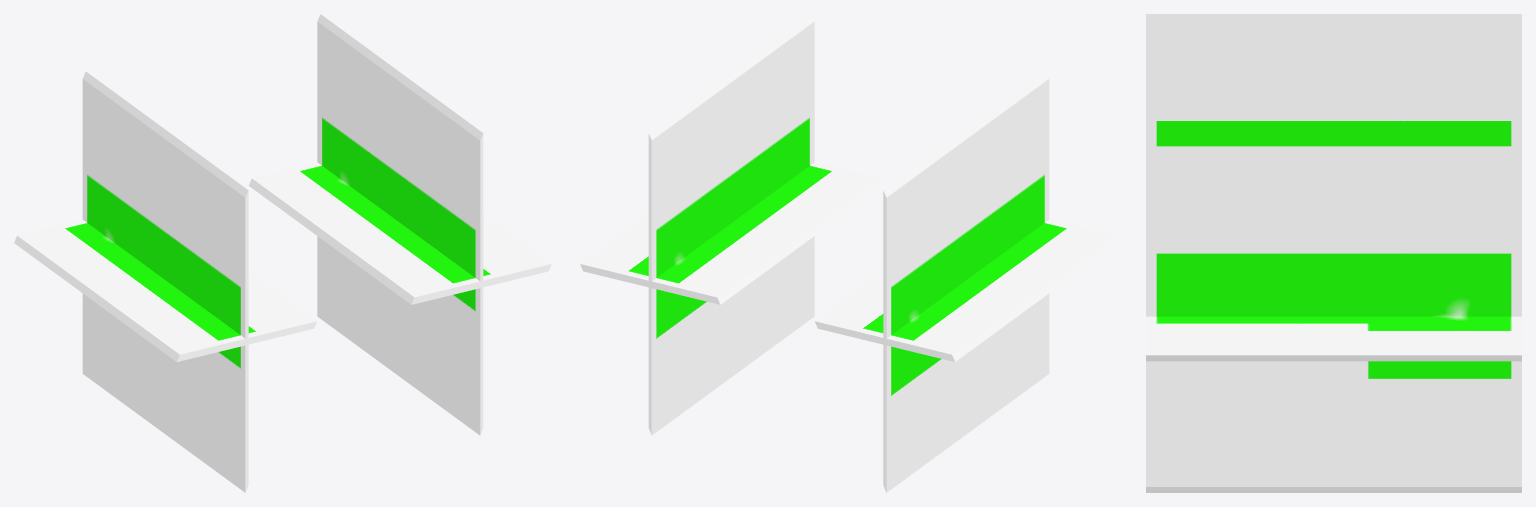
File: tielaser.glb
3 renders of one model, left to right at view 1: azimuth 30°, elevation 25°; view 2: azimuth 150°, elevation 25°; view 3: azimuth 270°, elevation 25°, orthographic. The views are drawn at different scales.
Visible parts, largest first — view 1: Cylindre; view 2: Cylindre; view 3: Cylindre.
Part boxes in pixels (bbox=[...]): Cylindre: bbox=[14, 14, 551, 492]; Cylindre: bbox=[580, 14, 1117, 492]; Cylindre: bbox=[1146, 14, 1521, 492].
Bounding box in the file's own units: 6.97 × 5.36 × 5.24.
Materials: 1 (1 with a texture image).
